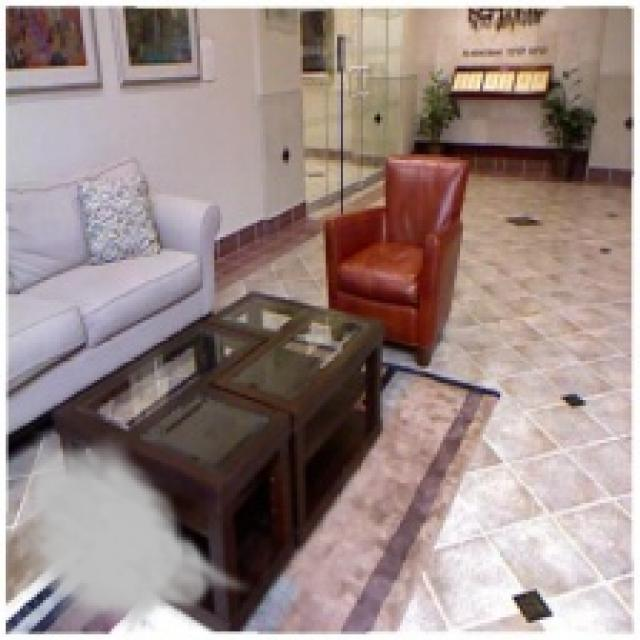smoke: (12, 429, 257, 634)
